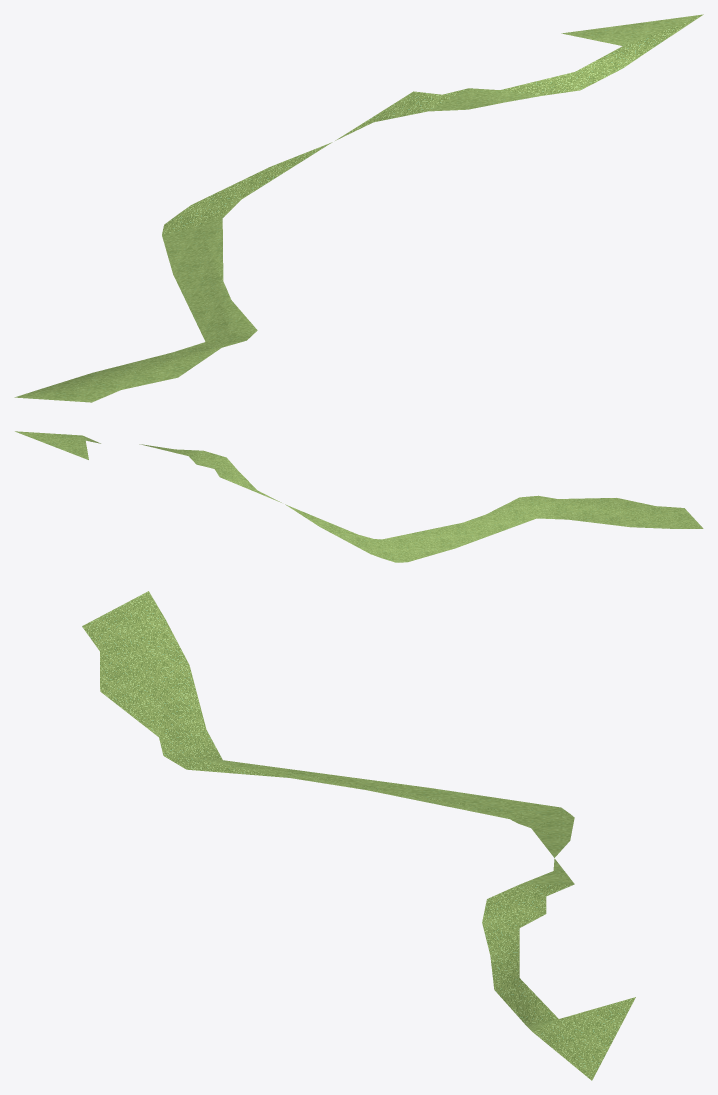
File: kd_stage_136282_2_15_bounded.glb
The picture shows the model from 3 angles, top to bottom: view 1: azimuth 30°, elevation 25°; view 2: azimuth 150°, elevation 25°; view 3: azimuth 270°, elevation 25°; orthographic projection. The views are drawn at different scales.
Parts seen in each view (by area): view 1: kd_stage_136282_2_15_bounded; view 2: kd_stage_136282_2_15_bounded; view 3: kd_stage_136282_2_15_bounded.
Boxes of the visible parts, x1,y1,x2,y2 form: kd_stage_136282_2_15_bounded: (14, 14, 703, 402); kd_stage_136282_2_15_bounded: (15, 431, 703, 562); kd_stage_136282_2_15_bounded: (82, 591, 635, 1080).
Size of the model in its own units: 86.93 by 7.13 by 36.02.
1 material, 1 textured.
